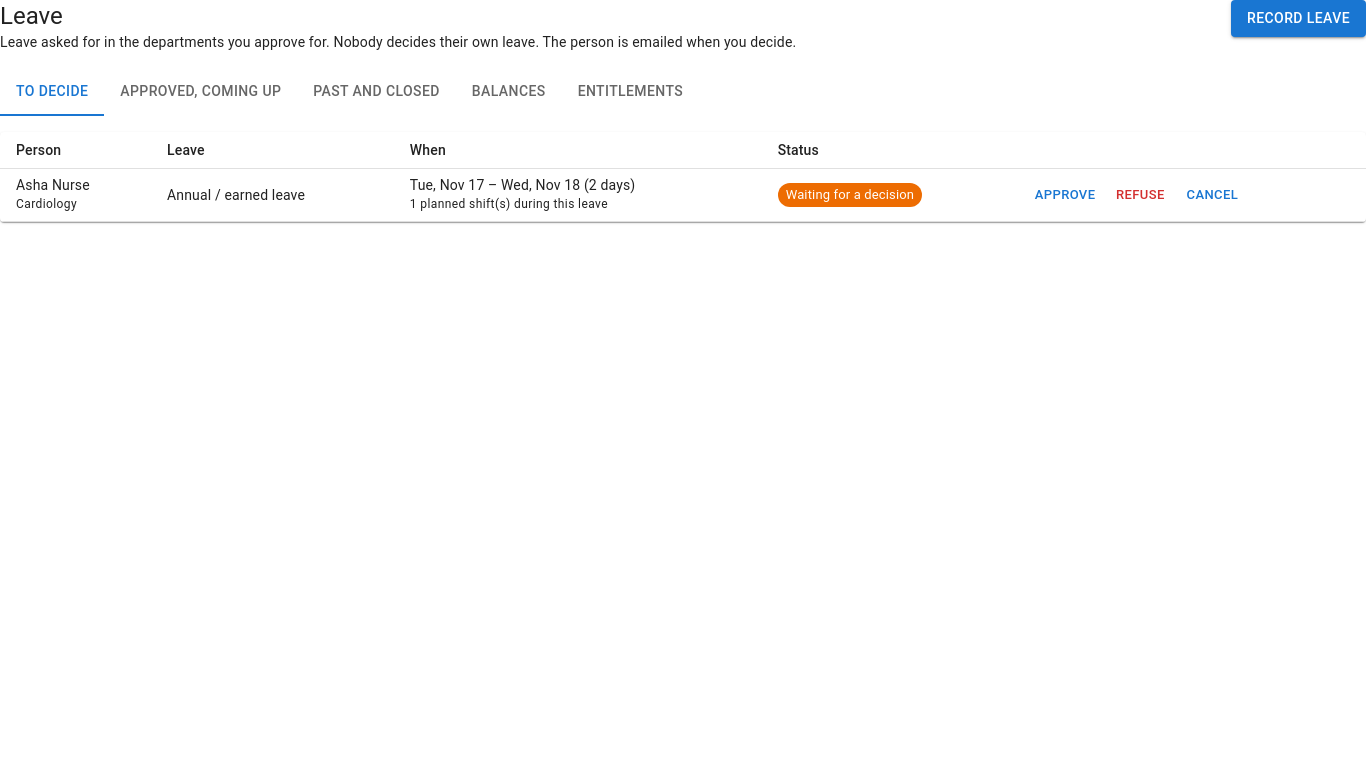
Leave (HIMS-STAFF-012) › refusing needs a reason
Click the button with aria-label "Refuse leave for Asha Nurse": {"x": 1140, "y": 195} [1108,180,1172,210]
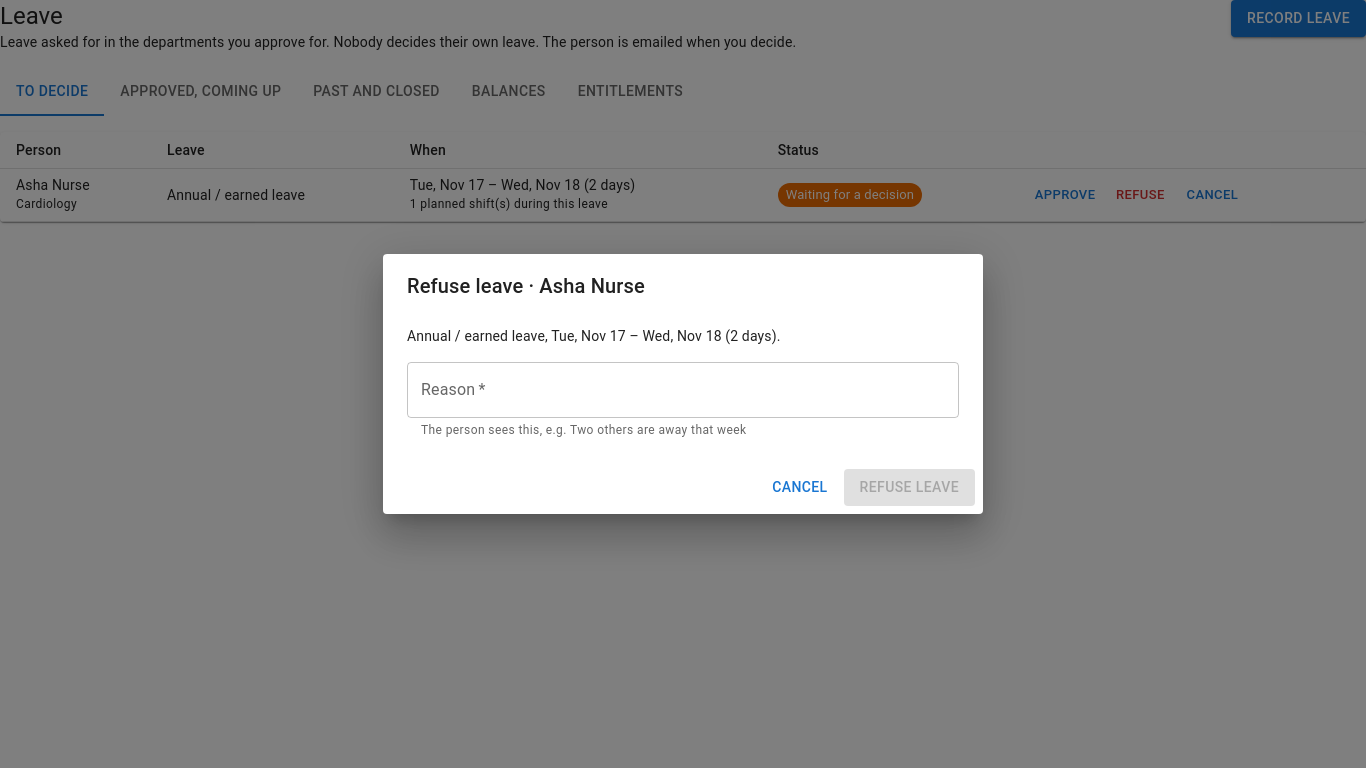
Expected: the button "Refuse leave" is disabled, [844,469,975,506]
